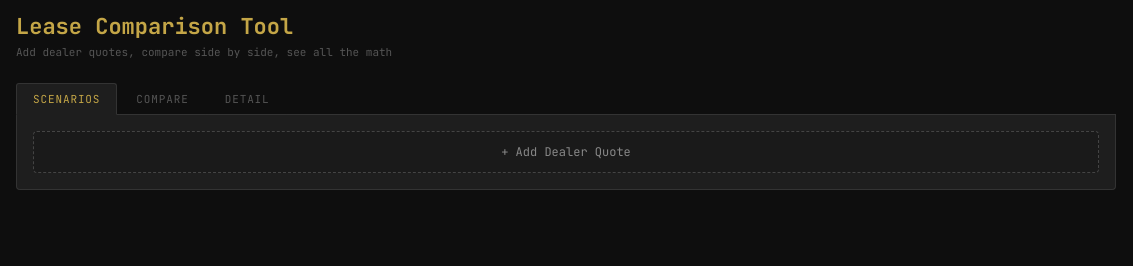
Test: App › switches to compare tab with empty state
This screenshot has width=1133, height=266.
Click the button "compare" at (162,99), box 119,83 -> 206,115
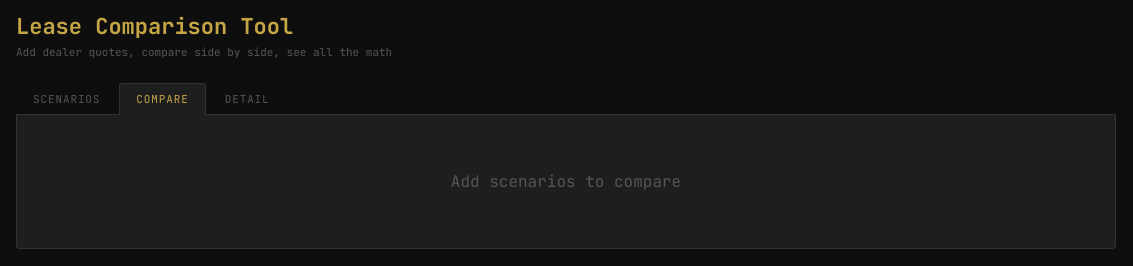
Expected: the text "Add scenarios to compare" is shown, 451,171 -> 681,192
